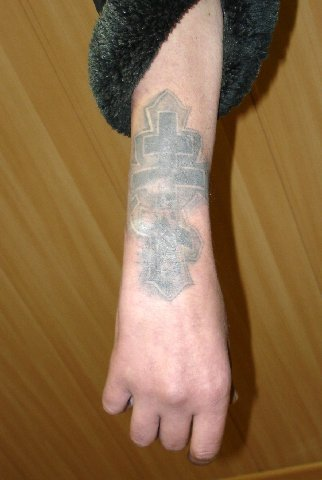tatu9_krest: (137, 110, 202, 299)
